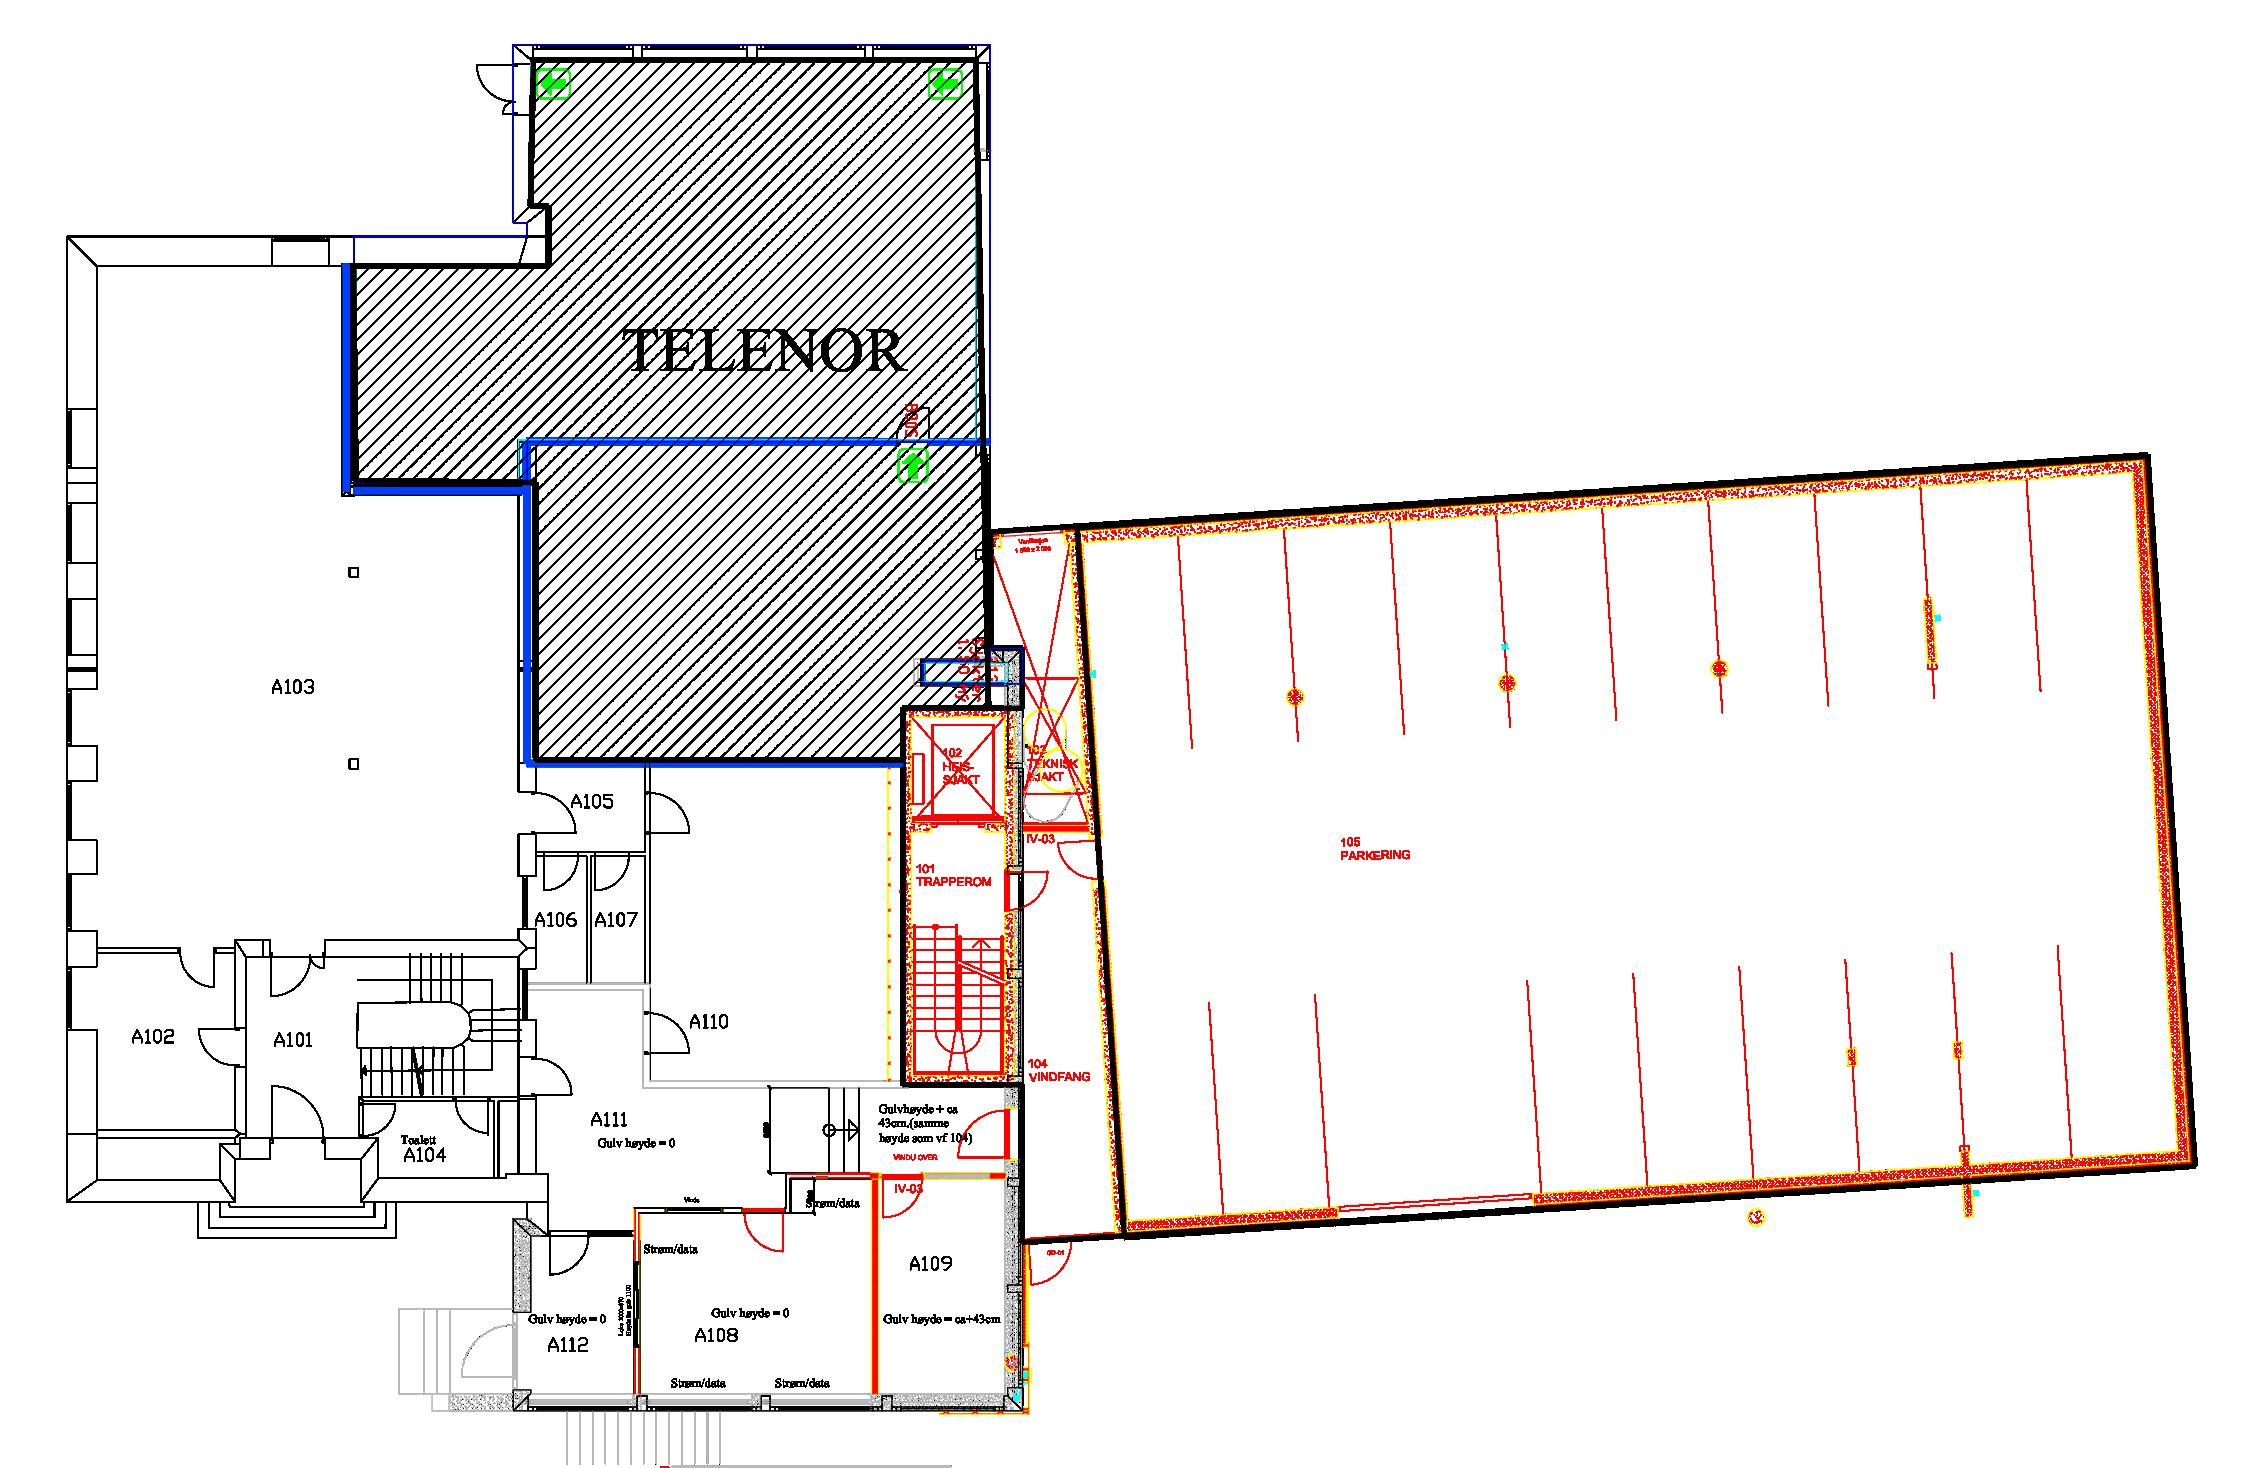room: (84, 257, 521, 947), (649, 767, 890, 1085), (637, 1175, 877, 1404), (877, 1175, 1019, 1402), (84, 950, 238, 1130), (519, 1234, 637, 1409), (360, 1096, 523, 1188), (588, 855, 647, 990), (531, 854, 587, 983)
